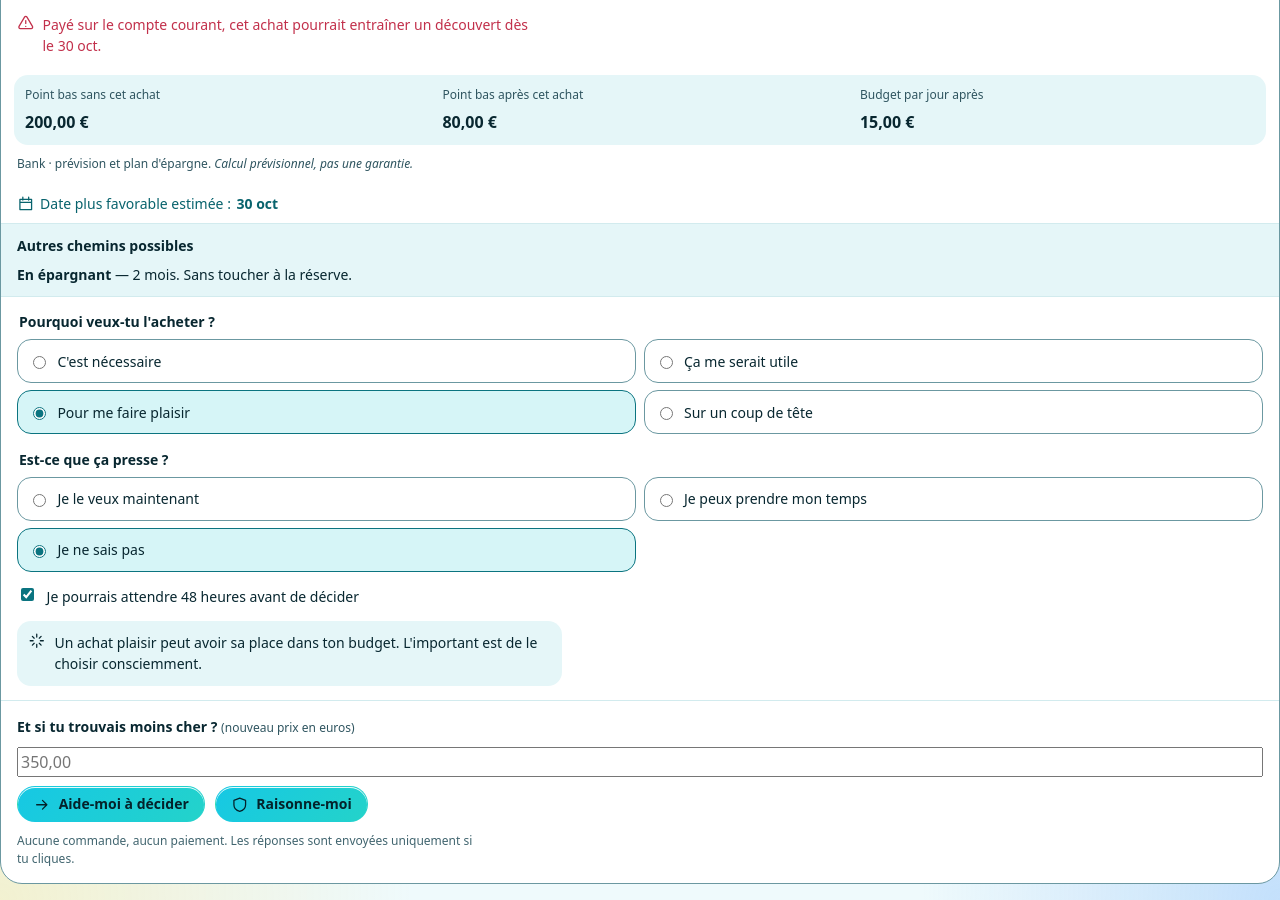
it: coach d'achat dans le chat › Raisonne-moi asks the assistant to challenge an unwise purchase with numbers, not guilt
The image size is (1280, 900).
(page scrolled)
Expected: the message with class "chat-scenario-warning" shows "découvert", [42, 15, 528, 55]
Click the button "Raisonne-moi".
click(291, 804)  # box [215, 786, 368, 822]
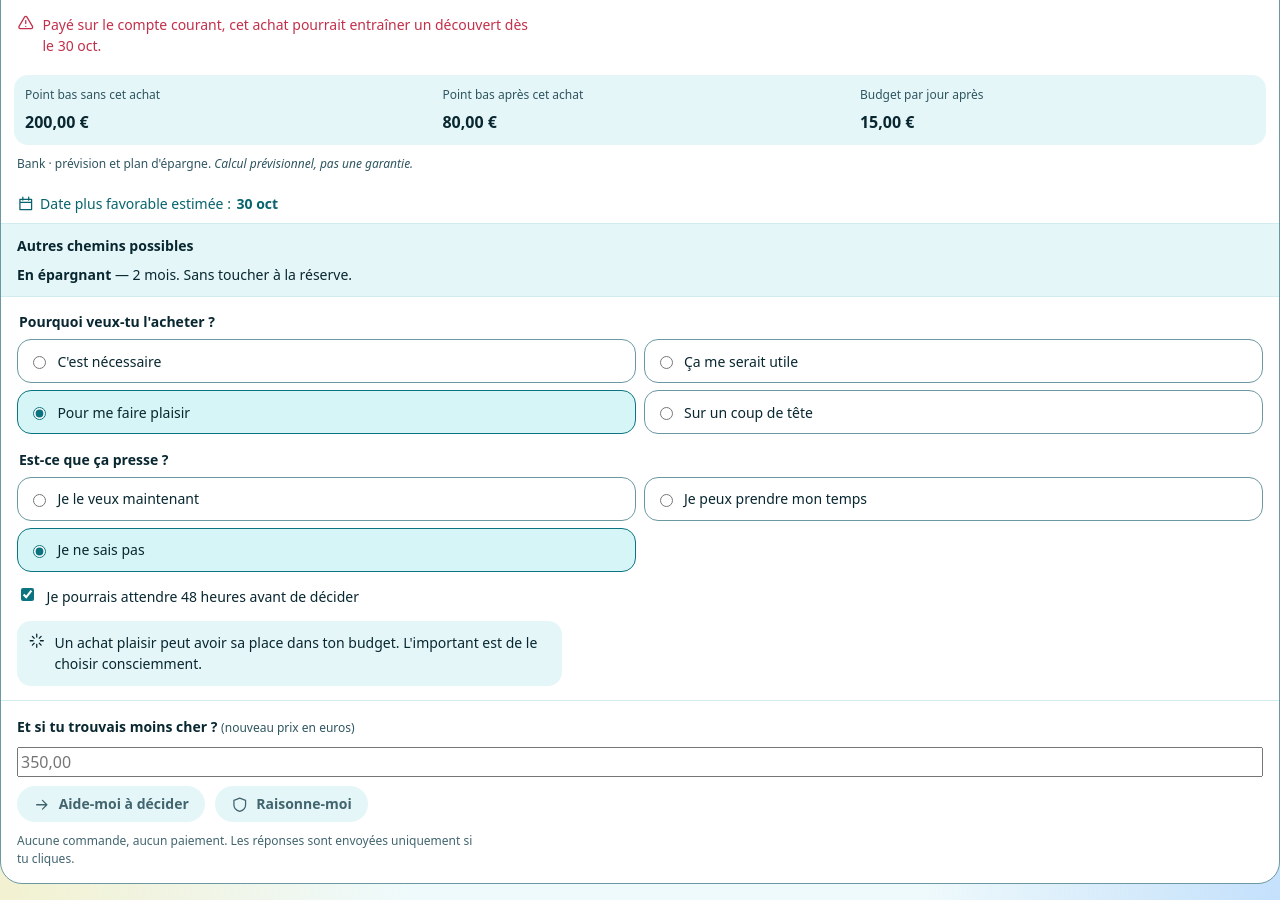
Now the button "Aide-moi à décider" is disabled, box [17, 786, 205, 822]
Now the button "Raisonne-moi" is disabled, box [215, 786, 368, 822]
